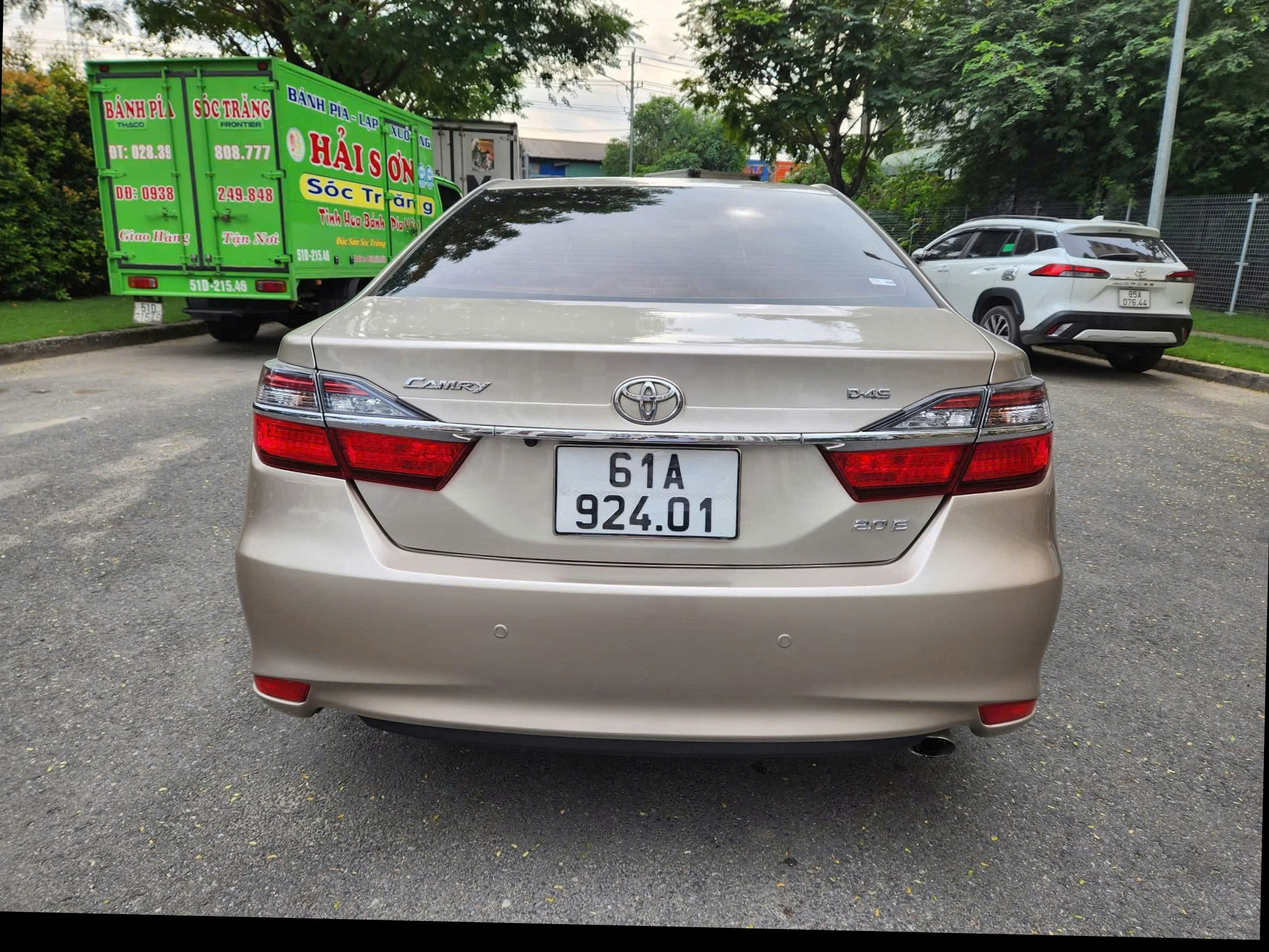Bien-so: (553, 444, 743, 539), (133, 298, 165, 328), (1116, 281, 1148, 310)
